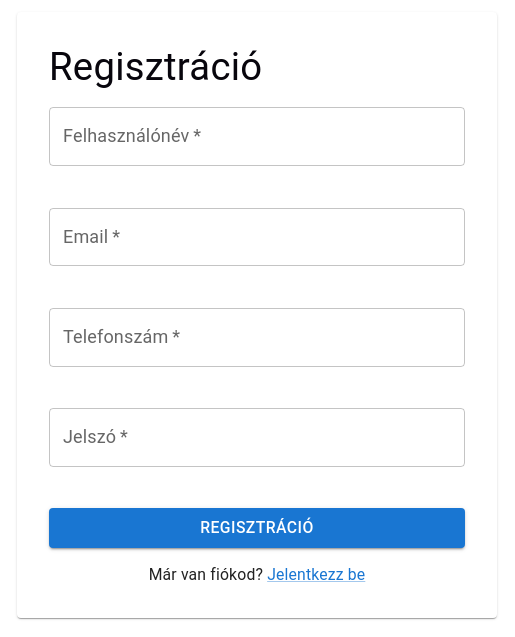
Test: Register oldal › üres submit esetén kötelező mezők validációs hibáit mutatja
Click the button "Regisztráció".
click(257, 528)  # box [49, 508, 465, 548]
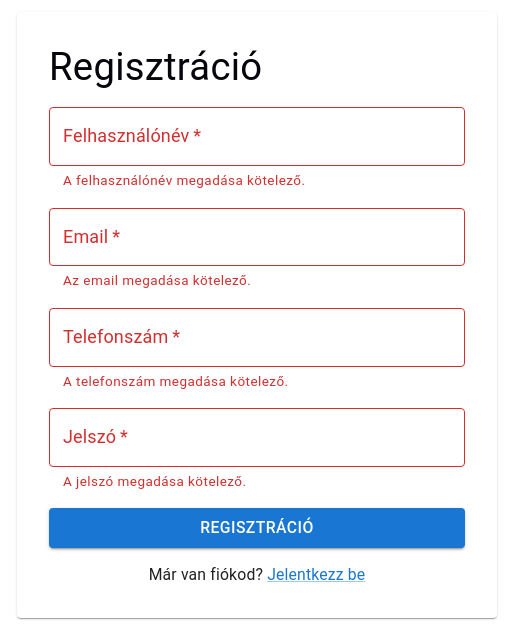
Check: the text "A felhasználónév megadása kötelező." is shown, box [63, 172, 306, 188]
Check: the text "Az email megadása kötelező." is shown, box [63, 272, 251, 288]
Check: the text "A telefonszám megadása kötelező." is shown, box [63, 373, 289, 389]
